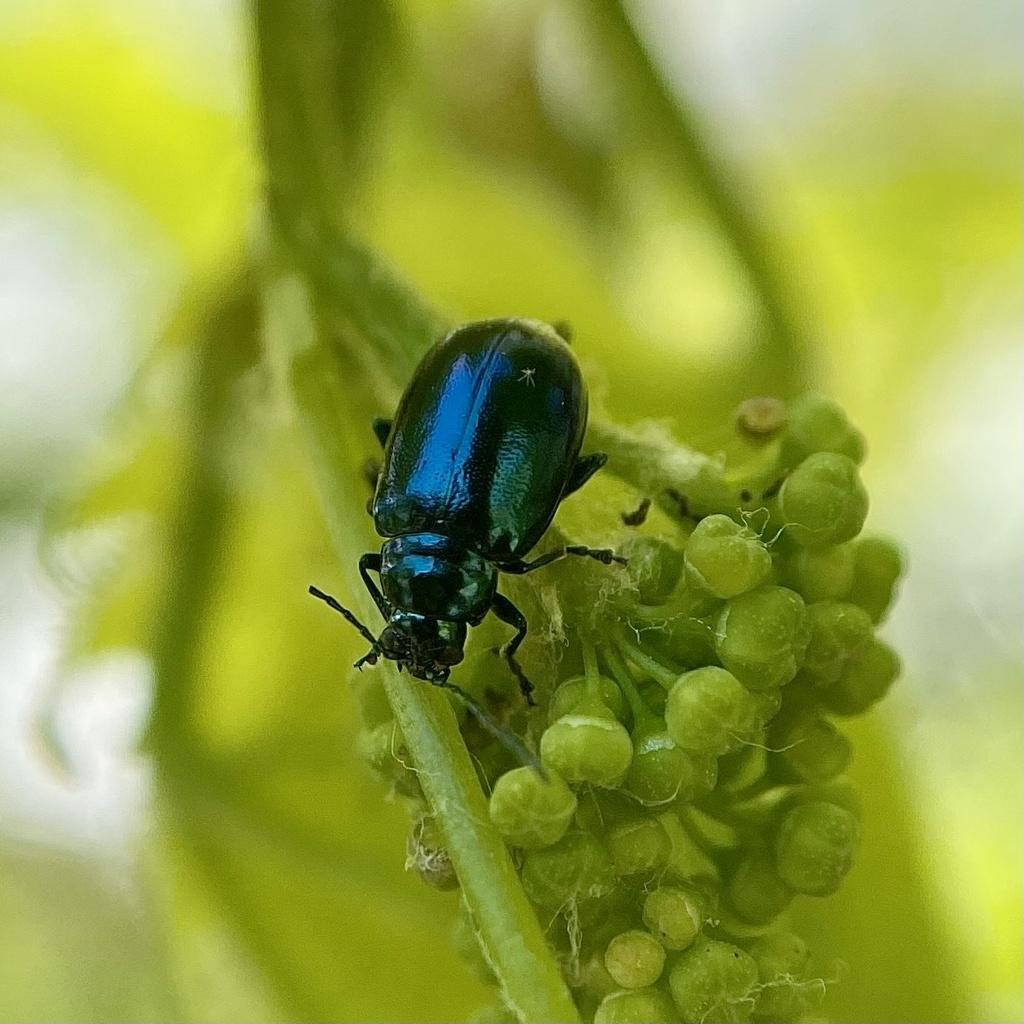flea_beetle: (267, 255, 724, 764)
